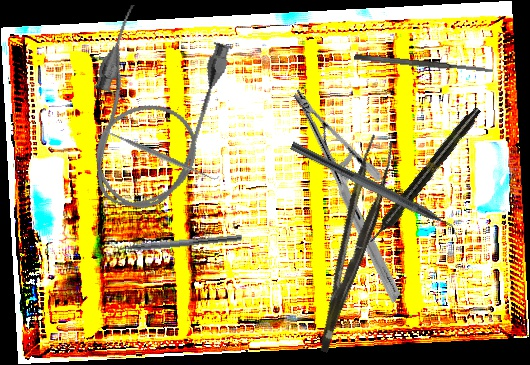Cannula: (64, 0, 237, 223)
Chopper: (283, 140, 468, 247), (106, 225, 243, 256)
Handpiece: (364, 104, 485, 247)
Needle Holder: (228, 86, 465, 305)
Spatula Surgical: (96, 122, 221, 188), (353, 52, 494, 76)
Tissue Forceps: (293, 133, 407, 354)
